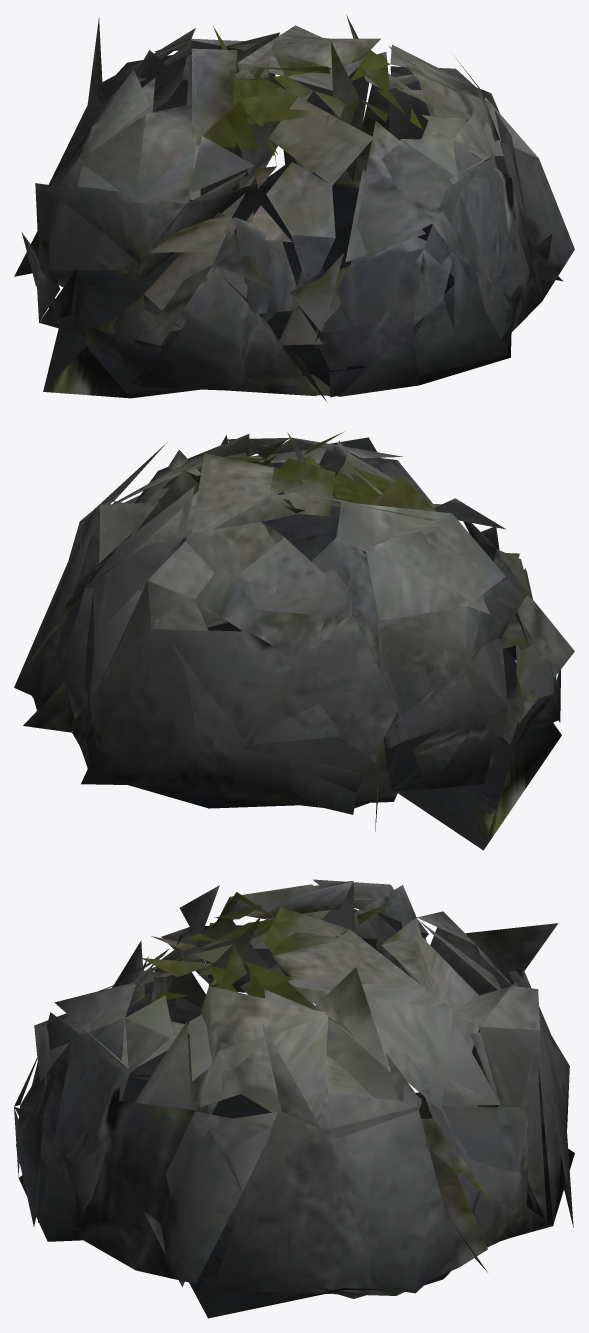
The model's file is rock-1.lod1.glb.
3 views of the same model, one above another, from view 1: azimuth 30°, elevation 25°; view 2: azimuth 150°, elevation 25°; view 3: azimuth 270°, elevation 25° (orthographic). The views are drawn at different scales.
Parts seen in each view (by area): view 1: terrain-rock-1; view 2: terrain-rock-1; view 3: terrain-rock-1.
Part boxes in pixels (left/top/right/bottom): terrain-rock-1: left=14, top=15, right=574, bottom=402; terrain-rock-1: left=14, top=431, right=574, bottom=850; terrain-rock-1: left=14, top=879, right=574, bottom=1318.
Size of the model in its own units: 0.1977 by 0.1324 by 0.1919.
1 material, 1 textured.
